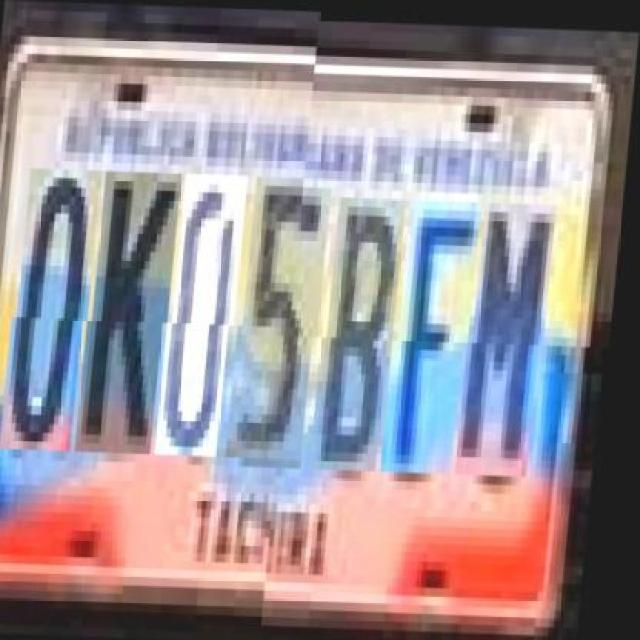0: (168, 182, 250, 463)
5: (238, 183, 334, 466)
b: (322, 194, 410, 468)
f: (394, 197, 484, 471)
k: (88, 178, 184, 462)
m: (470, 198, 561, 472)
o: (12, 176, 105, 459)
